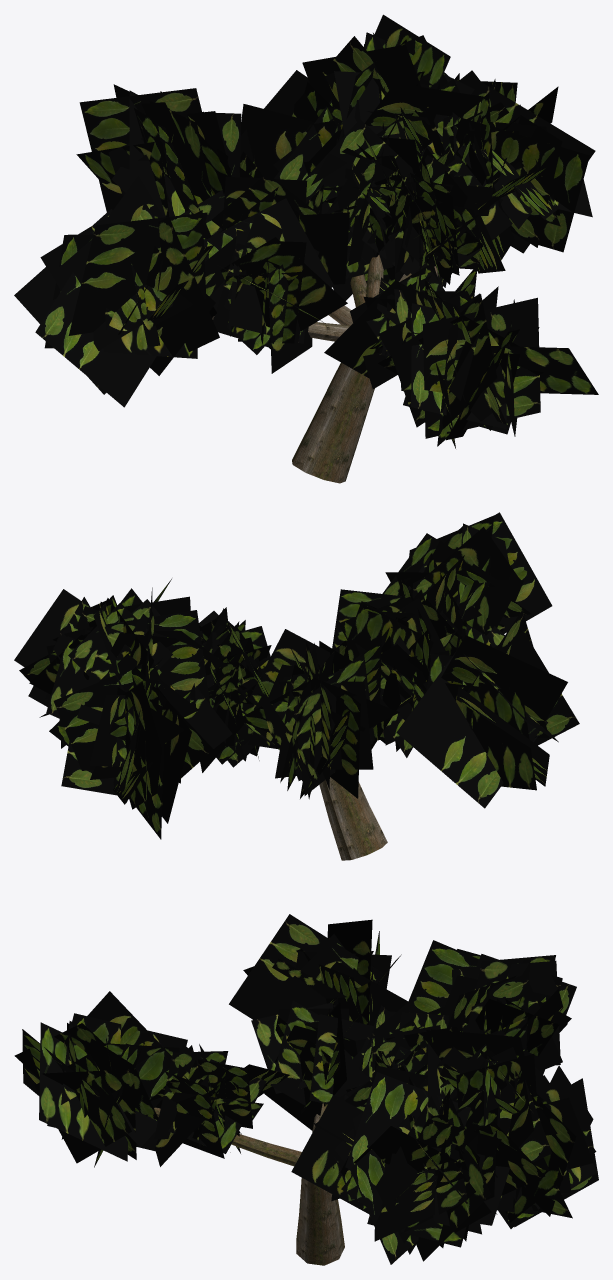
File: fig_3.glb
3 views of the same model, one above another, from view 1: azimuth 30°, elevation 25°; view 2: azimuth 150°, elevation 25°; view 3: azimuth 270°, elevation 25° (orthographic). The views are drawn at different scales.
Parts seen in each view (by area): view 1: fig; view 2: fig; view 3: fig.
Part boxes in pixels (x1,y1,x2,y2): fig: (14,14,598,483); fig: (14,512,579,860); fig: (14,914,598,1265).
Size of the model in its own units: 11.83 by 6.37 by 11.62.
Materials: 2 (2 with a texture image).
